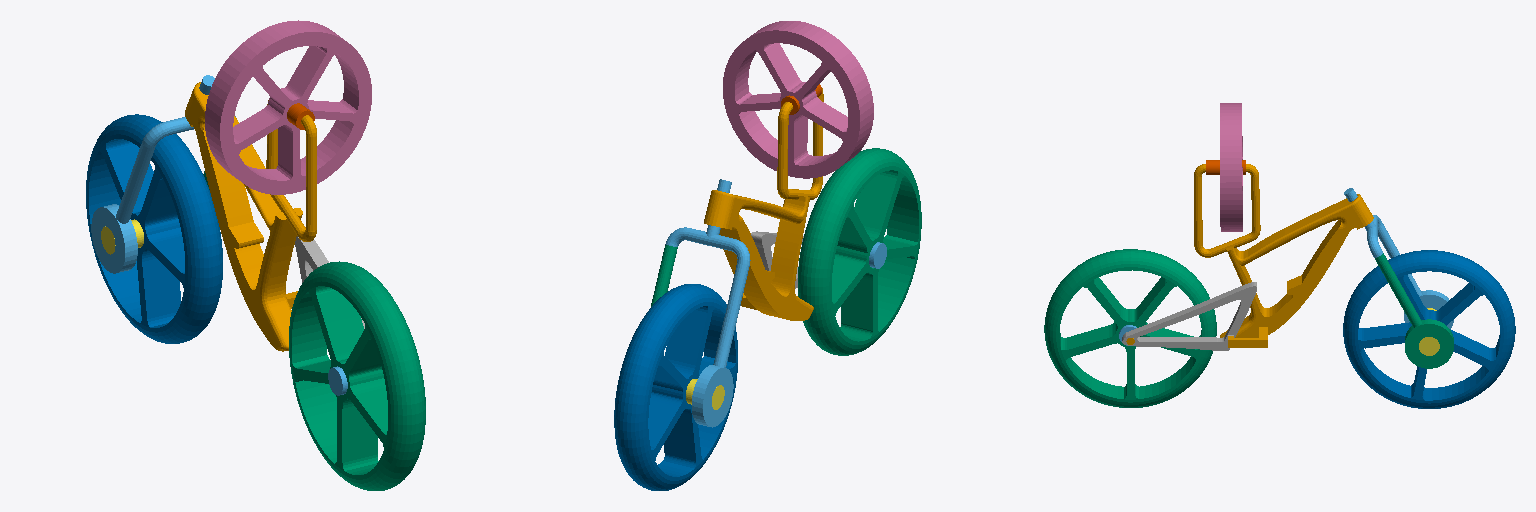
URDF robot description (wheel_correction):
<?xml version="1.0" ?>
<robot name="wheel_correction">

<material name="silver">
  <color rgba="0.700 0.700 0.700 1.000"/>
</material>

<link name="base_link">
  <inertial>
    <origin xyz="0.0008757073119978735 0.027821797655530164 0.23543870883233947" rpy="0 0 0"/>
    <mass value="3.4617605845419552"/>
    <inertia ixx="0.034219715371235776" iyy="0.01990600710041915" izz="0.015316149820734294" ixy="0.00021759155608739325" iyz="-0.006276353704797986" ixz="0.000472750992455699"/>
  </inertial>
  <visual>
    <origin xyz="0 0 0" rpy="0 0 0"/>
    <geometry>
      <mesh filename="meshes/base_link.stl" scale="0.001 0.001 0.001"/>
    </geometry>
    <material name="silver"/>
    <material/>
  </visual>
  <collision>
    <origin xyz="0 0 0" rpy="0 0 0"/>
    <geometry>
      <mesh filename="meshes/base_link.stl" scale="0.001 0.001 0.001"/>
    </geometry>
  </collision>
</link>

<link name="streeing1">
  <inertial>
    <origin xyz="-0.035685909686665934 0.07730483058221194 -0.14589351033497538" rpy="0 0 0"/>
    <mass value="1.0123146502922669"/>
    <inertia ixx="0.008758578313183926" iyy="0.007615622479657594" izz="0.0028341141057389163" ixy="0.0008829353634357126" iyz="0.003406326147918984" ixz="-0.0017010950544445727"/>
  </inertial>
  <visual>
    <origin xyz="0.0005 -0.13359 -0.350886" rpy="0 0 0"/>
    <geometry>
      <mesh filename="meshes/streeing1.stl" scale="0.001 0.001 0.001"/>
    </geometry>
    <material name="silver"/>
    <material/>
  </visual>
  <collision>
    <origin xyz="0.0005 -0.13359 -0.350886" rpy="0 0 0"/>
    <geometry>
      <mesh filename="meshes/streeing1.stl" scale="0.001 0.001 0.001"/>
    </geometry>
  </collision>
</link>

<link name="holder1">
  <inertial>
    <origin xyz="0.00019183278899699563 0.06280283962641486 -0.12183813999556847" rpy="0 0 0"/>
    <mass value="0.6846348414483994"/>
    <inertia ixx="0.002297136890053633" iyy="0.0017063708152771674" izz="0.0006185561110837665" ixy="-1.9760813384419457e-06" iyz="0.0007730767722945002" ixz="3.7921401997926055e-06"/>
  </inertial>
  <visual>
    <origin xyz="-0.05122 -0.172306 -0.280207" rpy="0 0 0"/>
    <geometry>
      <mesh filename="meshes/holder1.stl" scale="0.001 0.001 0.001"/>
    </geometry>
    <material name="silver"/>
    <material/>
  </visual>
  <collision>
    <origin xyz="-0.05122 -0.172306 -0.280207" rpy="0 0 0"/>
    <geometry>
      <mesh filename="meshes/holder1.stl" scale="0.001 0.001 0.001"/>
    </geometry>
  </collision>
</link>

<link name="front_holder1">
  <inertial>
    <origin xyz="-0.06012499999999999 -3.403218600261937e-07 1.6976585764938434e-07" rpy="0 0 0"/>
    <mass value="0.783089399593217"/>
    <inertia ixx="0.00010339227229001074" iyy="0.000995322941245479" izz="0.0009953229412454495" ixy="5.421010862427522e-20" iyz="-3.469446951953614e-18" ixz="2.710505431213761e-19"/>
  </inertial>
  <visual>
    <origin xyz="-0.059625 -0.25013 -0.129541" rpy="0 0 0"/>
    <geometry>
      <mesh filename="meshes/front_holder1.stl" scale="0.001 0.001 0.001"/>
    </geometry>
    <material name="silver"/>
    <material/>
  </visual>
  <collision>
    <origin xyz="-0.059625 -0.25013 -0.129541" rpy="0 0 0"/>
    <geometry>
      <mesh filename="meshes/front_holder1.stl" scale="0.001 0.001 0.001"/>
    </geometry>
  </collision>
</link>

<link name="front_wheel1">
  <inertial>
    <origin xyz="-0.06014299999999998 -0.00014234032186000167 0.00022816976585776638" rpy="0 0 0"/>
    <mass value="7.101585568522109"/>
    <inertia ixx="0.0783746763332086" iyy="0.04019722956678709" izz="0.040197229567424" ixy="2.3744027577432547e-17" iyz="-8.718026300869042e-13" ixz="9.812029660993815e-18"/>
  </inertial>
  <visual>
    <origin xyz="-0.059625 -0.250272 -0.129313" rpy="0 0 0"/>
    <geometry>
      <mesh filename="meshes/front_wheel1.stl" scale="0.001 0.001 0.001"/>
    </geometry>
    <material name="silver"/>
    <material/>
  </visual>
  <collision>
    <origin xyz="-0.059625 -0.250272 -0.129313" rpy="0 0 0"/>
    <geometry>
      <mesh filename="meshes/front_wheel1.stl" scale="0.001 0.001 0.001"/>
    </geometry>
  </collision>
</link>

<link name="pend_holder1">
  <inertial>
    <origin xyz="-0.0006949999999999006 0.030173144637428886 0.000538490600451913" rpy="0 0 0"/>
    <mass value="0.2152211609898068"/>
    <inertia ixx="7.31075117128277e-05" iyy="1.5563547611285866e-05" izz="7.310452129772769e-05" ixy="4.743384504624082e-20" iyz="-4.1482567443573704e-07" ixz="2.710505431213761e-20"/>
  </inertial>
  <visual>
    <origin xyz="0.0005 0.090491 -0.402031" rpy="0 0 0"/>
    <geometry>
      <mesh filename="meshes/pend_holder1.stl" scale="0.001 0.001 0.001"/>
    </geometry>
    <material name="silver"/>
    <material/>
  </visual>
  <collision>
    <origin xyz="0.0005 0.090491 -0.402031" rpy="0 0 0"/>
    <geometry>
      <mesh filename="meshes/pend_holder1.stl" scale="0.001 0.001 0.001"/>
    </geometry>
  </collision>
</link>

<link name="pend1">
  <inertial>
    <origin xyz="0.0002959999999557659 0.03868518404322707 0.0003488104625798405" rpy="0 0 0"/>
    <mass value="3.58161489894968"/>
    <inertia ixx="0.012299735752444807" iyy="0.02390372738798785" izz="0.012300338781503136" ixy="1.486929069455245e-15" iyz="8.365140865779219e-05" ixz="-2.0569396880221191e-13"/>
  </inertial>
  <visual>
    <origin xyz="0.001491 0.090913 -0.402279" rpy="0 0 0"/>
    <geometry>
      <mesh filename="meshes/pend1.stl" scale="0.001 0.001 0.001"/>
    </geometry>
    <material name="silver"/>
    <material/>
  </visual>
  <collision>
    <origin xyz="0.001491 0.090913 -0.402279" rpy="0 0 0"/>
    <geometry>
      <mesh filename="meshes/pend1.stl" scale="0.001 0.001 0.001"/>
    </geometry>
  </collision>
</link>

<link name="jointer1">
  <inertial>
    <origin xyz="-0.01455315194549392 -0.04166573321932045 0.021245050424201162" rpy="0 0 0"/>
    <mass value="0.6445512085413138"/>
    <inertia ixx="0.002657102752983611" iyy="0.000680339484930563" izz="0.0020060266209051044" ixy="-1.929547418314144e-06" iyz="-0.0006439764291094538" ixz="9.838515896303836e-07"/>
  </inertial>
  <visual>
    <origin xyz="-0.0515 0.053094 -0.137663" rpy="0 0 0"/>
    <geometry>
      <mesh filename="meshes/jointer1.stl" scale="0.001 0.001 0.001"/>
    </geometry>
    <material name="silver"/>
    <material/>
  </visual>
  <collision>
    <origin xyz="-0.0515 0.053094 -0.137663" rpy="0 0 0"/>
    <geometry>
      <mesh filename="meshes/jointer1.stl" scale="0.001 0.001 0.001"/>
    </geometry>
  </collision>
</link>

<link name="rare_waste1">
  <inertial>
    <origin xyz="-0.003250000000000003 -3.4013349153871886e-07 1.318790547044646e-07" rpy="0 0 0"/>
    <mass value="0.006638261123380088"/>
    <inertia ixx="1.374503284554498e-07" iyy="9.209737526625532e-08" izz="9.209737526652637e-08" ixy="5.421010862427522e-20" iyz="8.131516293641283e-20" ixz="-2.0328790734103208e-20"/>
  </inertial>
  <visual>
    <origin xyz="-0.045 0.206007 -0.131163" rpy="0 0 0"/>
    <geometry>
      <mesh filename="meshes/rare_waste1.stl" scale="0.001 0.001 0.001"/>
    </geometry>
    <material name="silver"/>
    <material/>
  </visual>
  <collision>
    <origin xyz="-0.045 0.206007 -0.131163" rpy="0 0 0"/>
    <geometry>
      <mesh filename="meshes/rare_waste1.stl" scale="0.001 0.001 0.001"/>
    </geometry>
  </collision>
</link>

<link name="rare_holfer1">
  <inertial>
    <origin xyz="-0.03813077825872323 -0.0012913042169219735 0.000753313794799676" rpy="0 0 0"/>
    <mass value="0.3909198022979869"/>
    <inertia ixx="5.052794368280364e-05" iyy="0.00014528313450223613" izz="0.00014529436683504912" ixy="-4.3866442050785113e-07" iyz="9.934938404940197e-09" ixz="2.559281956545094e-07"/>
  </inertial>
  <visual>
    <origin xyz="-0.0385 0.206007 -0.131163" rpy="0 0 0"/>
    <geometry>
      <mesh filename="meshes/rare_holfer1.stl" scale="0.001 0.001 0.001"/>
    </geometry>
    <material name="silver"/>
    <material/>
  </visual>
  <collision>
    <origin xyz="-0.0385 0.206007 -0.131163" rpy="0 0 0"/>
    <geometry>
      <mesh filename="meshes/rare_holfer1.stl" scale="0.001 0.001 0.001"/>
    </geometry>
  </collision>
</link>

<link name="rare_wheel1">
  <inertial>
    <origin xyz="-0.029255999999999997 -0.00014934013349163222 -0.00023786812094517273" rpy="0 0 0"/>
    <mass value="7.101585568522096"/>
    <inertia ixx="0.07837467633320844" iyy="0.04019722956710435" izz="0.040197229567106585" ixy="-1.1926223897340549e-18" iyz="-9.282297153134778e-13" ixz="7.15573433840433e-18"/>
  </inertial>
  <visual>
    <origin xyz="-0.02875 0.205858 -0.131401" rpy="0 0 0"/>
    <geometry>
      <mesh filename="meshes/rare_wheel1.stl" scale="0.001 0.001 0.001"/>
    </geometry>
    <material name="silver"/>
    <material/>
  </visual>
  <collision>
    <origin xyz="-0.02875 0.205858 -0.131401" rpy="0 0 0"/>
    <geometry>
      <mesh filename="meshes/rare_wheel1.stl" scale="0.001 0.001 0.001"/>
    </geometry>
  </collision>
</link>

<joint name="streeing" type="revolute">
  <origin xyz="-0.0005 0.13359 0.350886" rpy="0 0 0"/>
  <parent link="base_link"/>
  <child link="streeing1"/>
  <axis xyz="0.0 0.481919 -0.876216"/>
  <limit upper="1.134464" lower="-1.134464" effort="100" velocity="100"/>
</joint>
<transmission name="streeing_tran">
  <type>transmission_interface/SimpleTransmission</type>
  <joint name="streeing">
    <hardwareInterface>PositionJointInterface</hardwareInterface>
  </joint>
  <actuator name="streeing_actr">
    <hardwareInterface>PositionJointInterface</hardwareInterface>
    <mechanicalReduction>1</mechanicalReduction>
  </actuator>
</transmission>

<joint name="holder" type="fixed">
  <origin xyz="0.05172 0.038716 -0.070679" rpy="0 0 0"/>
  <parent link="streeing1"/>
  <child link="holder1"/>
</joint>

<joint name="front_holder" type="fixed">
  <origin xyz="0.008405 0.077824 -0.150666" rpy="0 0 0"/>
  <parent link="holder1"/>
  <child link="front_holder1"/>
</joint>

<joint name="front_wheel" type="continuous">
  <origin xyz="0.0 0.000142 -0.000228" rpy="0 0 0"/>
  <parent link="front_holder1"/>
  <child link="front_wheel1"/>
  <axis xyz="1.0 0.0 -0.0"/>
</joint>
<transmission name="front_wheel_tran">
  <type>transmission_interface/SimpleTransmission</type>
  <joint name="front_wheel">
    <hardwareInterface>PositionJointInterface</hardwareInterface>
  </joint>
  <actuator name="front_wheel_actr">
    <hardwareInterface>PositionJointInterface</hardwareInterface>
    <mechanicalReduction>1</mechanicalReduction>
  </actuator>
</transmission>

<joint name="penf_holder" type="fixed">
  <origin xyz="-0.0005 -0.090491 0.402031" rpy="0 0 0"/>
  <parent link="base_link"/>
  <child link="pend_holder1"/>
</joint>

<joint name="pendulum" type="continuous">
  <origin xyz="-0.000991 -0.000422 0.000248" rpy="0 0 0"/>
  <parent link="pend_holder1"/>
  <child link="pend1"/>
  <axis xyz="0.0 -0.999974 -0.007209"/>
</joint>
<transmission name="pendulum_tran">
  <type>transmission_interface/SimpleTransmission</type>
  <joint name="pendulum">
    <hardwareInterface>PositionJointInterface</hardwareInterface>
  </joint>
  <actuator name="pendulum_actr">
    <hardwareInterface>PositionJointInterface</hardwareInterface>
    <mechanicalReduction>1</mechanicalReduction>
  </actuator>
</transmission>

<joint name="connector" type="fixed">
  <origin xyz="0.0515 -0.053094 0.137663" rpy="0 0 0"/>
  <parent link="base_link"/>
  <child link="jointer1"/>
</joint>

<joint name="rare_connector" type="fixed">
  <origin xyz="-0.0065 -0.152913 -0.0065" rpy="0 0 0"/>
  <parent link="jointer1"/>
  <child link="rare_waste1"/>
</joint>

<joint name="rare_co" type="fixed">
  <origin xyz="-0.0065 0.0 0.0" rpy="0 0 0"/>
  <parent link="rare_waste1"/>
  <child link="rare_holfer1"/>
</joint>

<joint name="rare_wheel" type="continuous">
  <origin xyz="-0.00975 0.000149 0.000238" rpy="0 0 0"/>
  <parent link="rare_holfer1"/>
  <child link="rare_wheel1"/>
  <axis xyz="1.0 0.0 0.0"/>
</joint>
<transmission name="rare_wheel_tran">
  <type>transmission_interface/SimpleTransmission</type>
  <joint name="rare_wheel">
    <hardwareInterface>PositionJointInterface</hardwareInterface>
  </joint>
  <actuator name="rare_wheel_actr">
    <hardwareInterface>PositionJointInterface</hardwareInterface>
    <mechanicalReduction>1</mechanicalReduction>
  </actuator>
</transmission>

</robot>

--- Render facts (derived) ---
The picture shows the robot from 3 angles, left to right: view 1: azimuth 30°, elevation 25°; view 2: azimuth 150°, elevation 25°; view 3: azimuth 270°, elevation 25°; orthographic projection.
Robot: wheel_correction — 11 links, 10 joints (1 revolute, 3 continuous, 6 fixed); root link base_link; default pose: every joint at zero.
Visible links, largest first — view 1: rare_wheel1, front_wheel1, pend1, base_link, streeing1, jointer1; view 2: rare_wheel1, front_wheel1, pend1, base_link, streeing1, holder1, jointer1; view 3: rare_wheel1, front_wheel1, base_link, jointer1, pend1, holder1, streeing1.
Boxes of the visible links, bbox=[...] form: rare_wheel1: bbox=[289, 261, 425, 490]; front_wheel1: bbox=[86, 114, 222, 343]; pend1: bbox=[205, 20, 371, 194]; base_link: bbox=[185, 82, 316, 351]; streeing1: bbox=[91, 75, 235, 273]; jointer1: bbox=[295, 236, 364, 328]; rare_wheel1: bbox=[798, 148, 921, 355]; front_wheel1: bbox=[614, 284, 737, 490]; pend1: bbox=[723, 21, 873, 178]; base_link: bbox=[704, 88, 823, 320]; streeing1: bbox=[665, 179, 750, 427]; holder1: bbox=[651, 245, 677, 306]; jointer1: bbox=[751, 231, 803, 288]; rare_wheel1: bbox=[1044, 249, 1216, 407]; front_wheel1: bbox=[1343, 250, 1515, 408]; base_link: bbox=[1194, 164, 1373, 347]; jointer1: bbox=[1122, 282, 1256, 350]; pend1: bbox=[1220, 103, 1242, 231]; holder1: bbox=[1375, 253, 1453, 368]; streeing1: bbox=[1344, 188, 1453, 328].
Bounding box of the posed robot: 0.1977 × 0.7194 × 0.5038 m (x, y, z).
11 mesh visuals loaded from 11 distinct referenced files (11 binary STL).